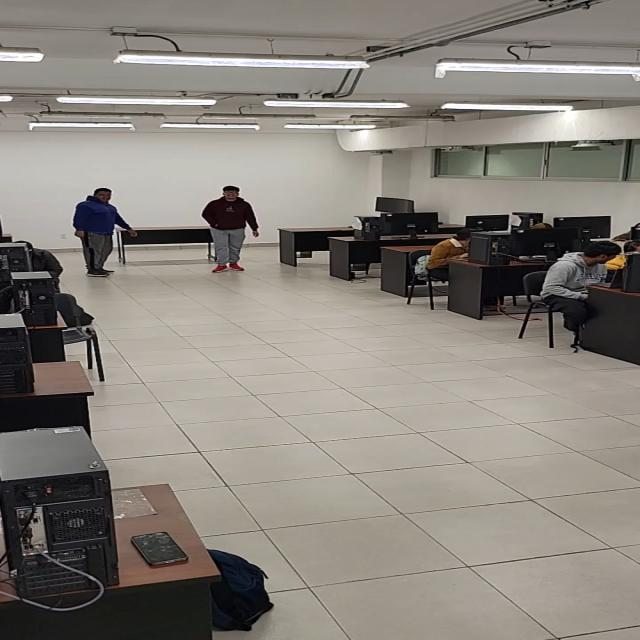Persona: (72, 186, 132, 277), (205, 184, 260, 270)
